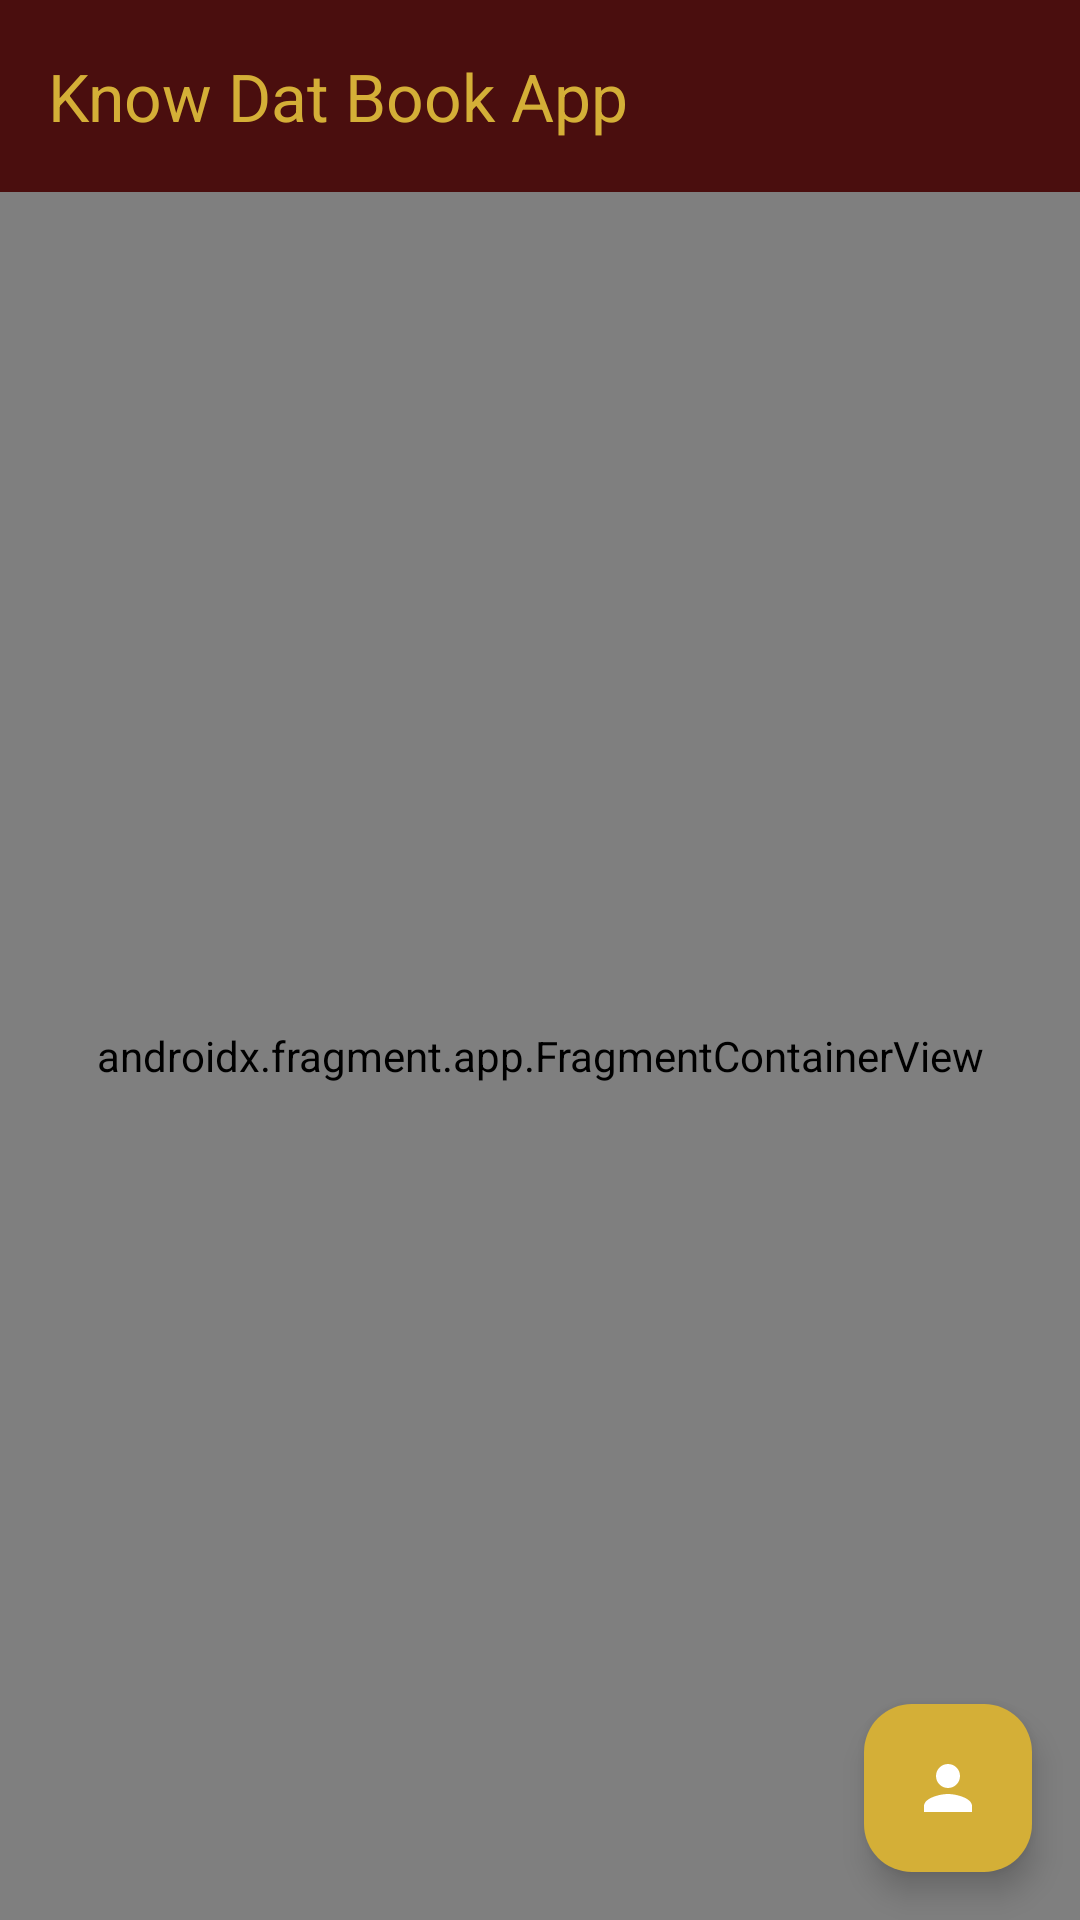

Icons on this 1080*1920 Android screen, each with its box as detection(x1, y1, x2, y2):
persona: detection(864, 1704, 1032, 1872)
